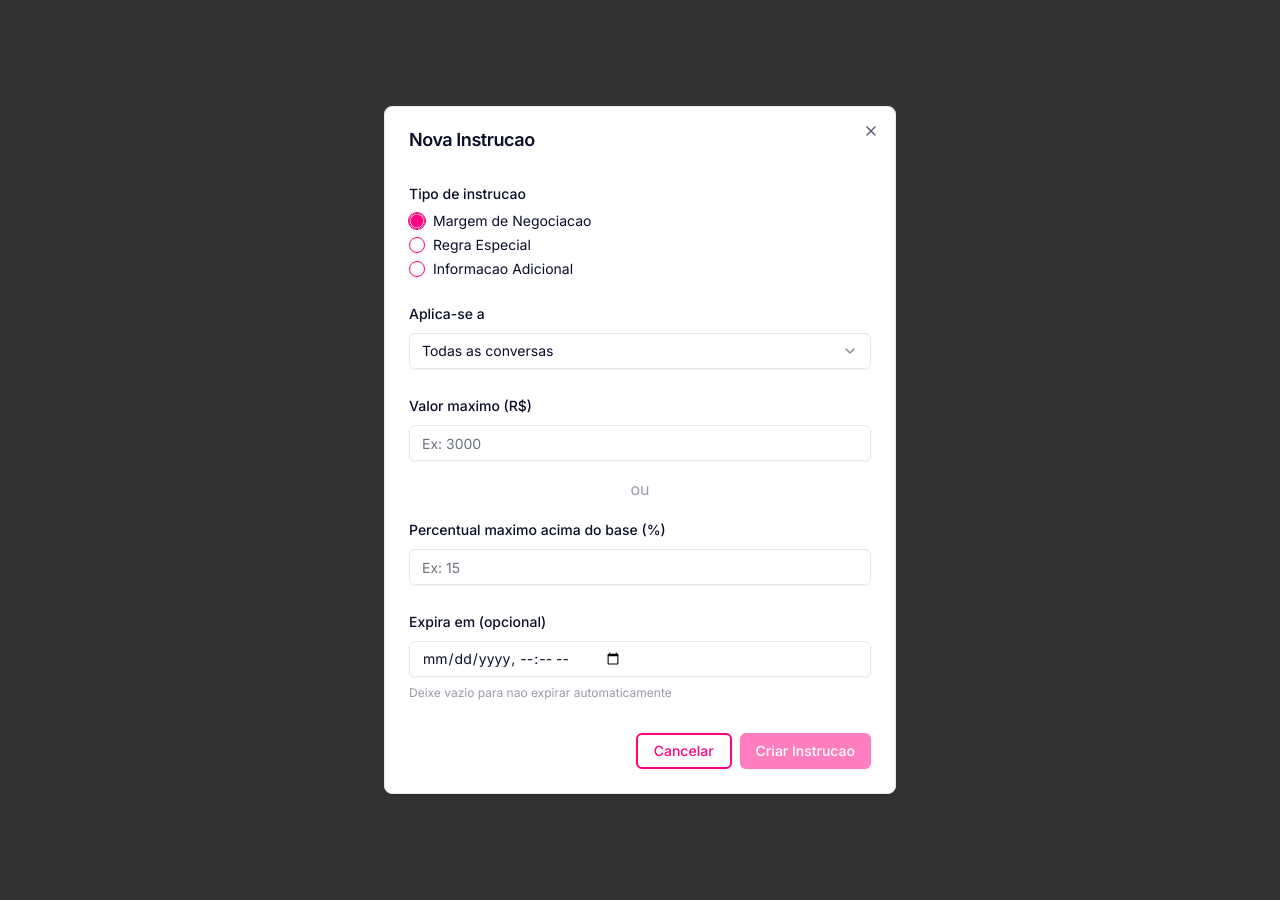
Scenario: NovaInstrucaoDialog › deve habilitar botao criar quando form valido
Check: the text "Valor maximo (R$)" is shown, box [409, 397, 532, 414]
Note: Preencher valor maximo
Type "3000" into the number field with placeholder "Ex: 3000" at {"x": 640, "y": 443}, box [409, 425, 871, 461]
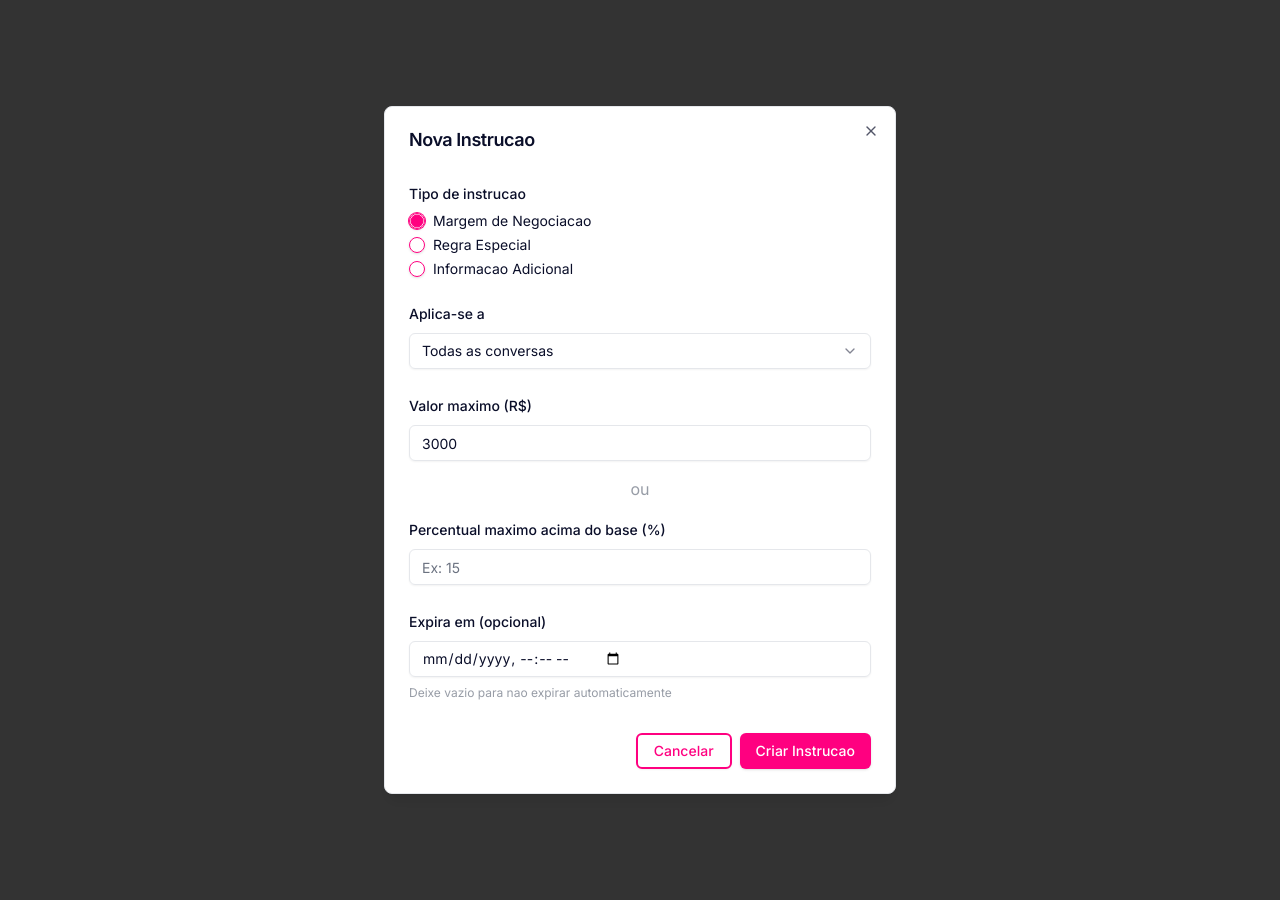
Check: the button "Criar Instrucao" is enabled, box [740, 733, 871, 769]
